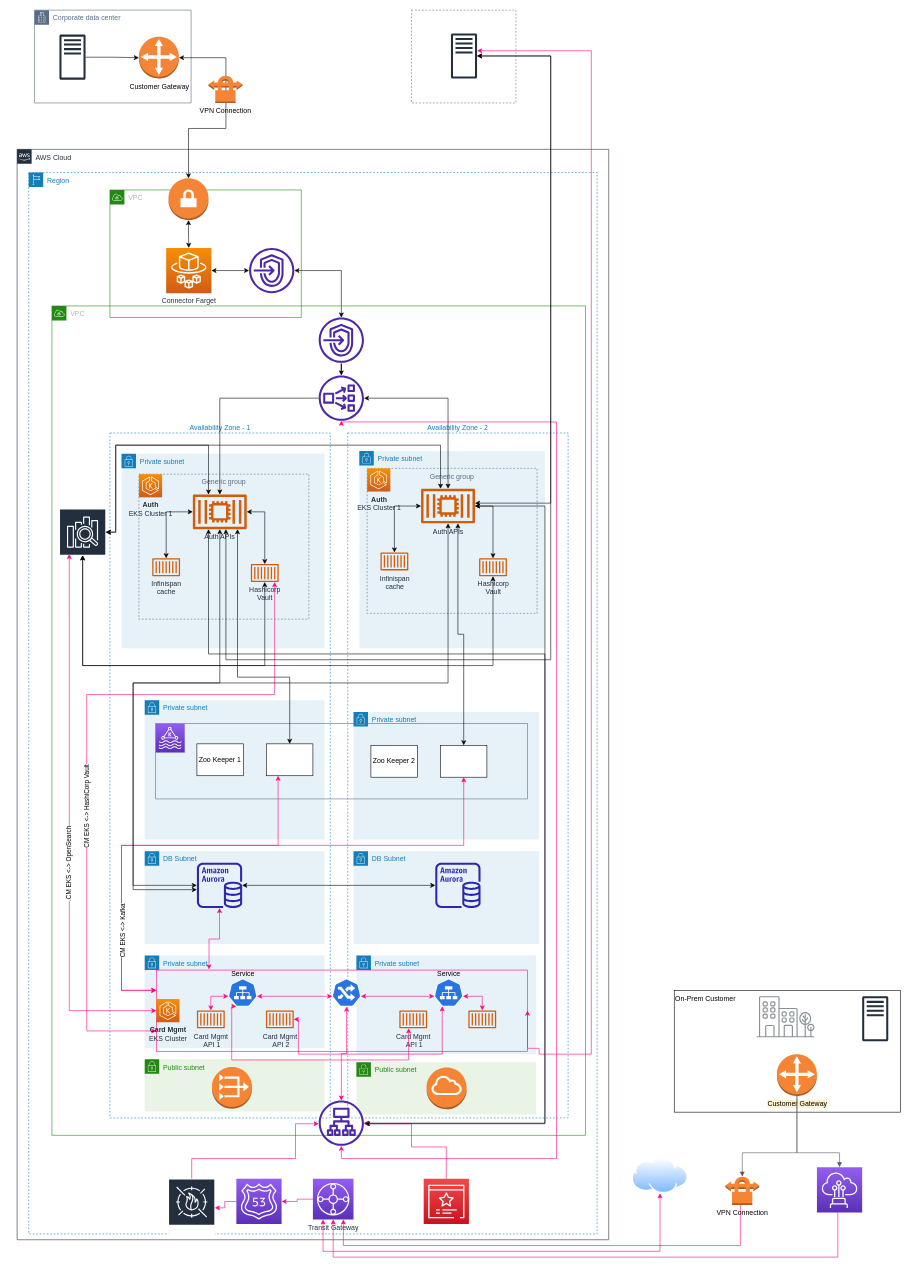
Image size: 911x1272. Some labels were removed from this diagram. The centre of each missing label's shape, as x and y in pixels:
"ACM" belongs at [446,1201].
"Amazon Opensearch Service" belongs at [82,531].
"AWS WAF" belongs at [191,1207].
"Broker 1" belongs at [289,759].
"Broker 2" belongs at [463,761].
"Card Mgmt ALB" belongs at [341,1123].
"Direct Connect" belongs at [839,1189].
"HSM" belongs at [464,55].
"Ingress" belongs at [346,992].
"Internet" belongs at [660,1175].
"Internet Gateway" belongs at [446,1088].
"Kafka Cluster" belongs at [170,738].
"NAT Gateway" belongs at [231,1087].
"NLB" belongs at [341,397].
"office building" belongs at [785,1016].
"Primary PostgreSQL DB" belongs at [219,885].
"Route 53" belongs at [259,1201].
"S Router" belongs at [72,56].
"Secondary PostgreSQL DB" belongs at [457,885].
"VPC Endpoint" belongs at [271,270].
"VPC Endpoint Service" belongs at [341,339].
"VPN Gateway" belongs at [188,199].
